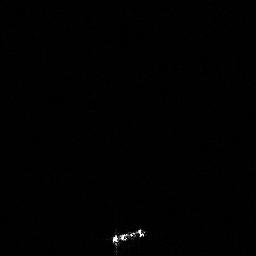ship: (108, 225, 148, 250)
